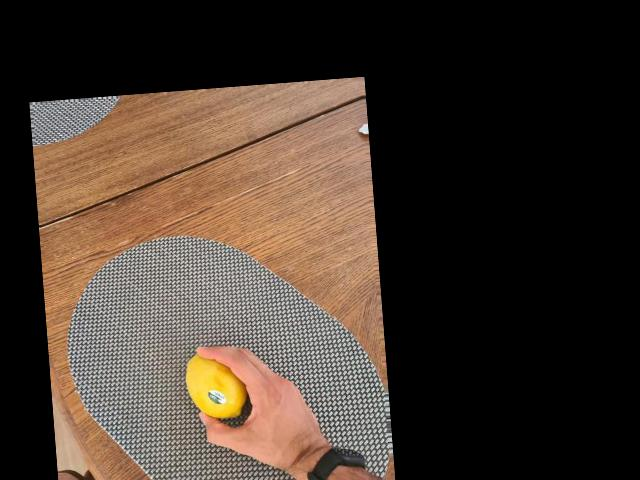lemon: (181, 344, 247, 423)
